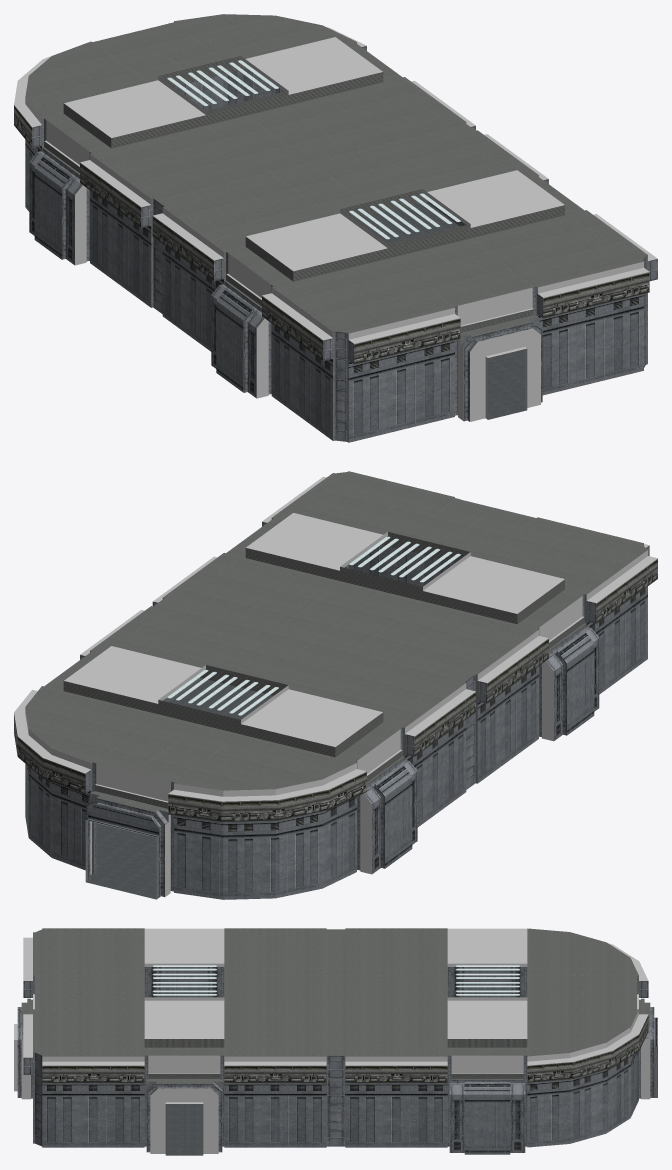
Rendered from poi_all_impl_bunker_warren_s01_r37_smallroom37_mesh_r37.fbx.
The picture shows the model from 3 angles, top to bottom: view 1: azimuth 30°, elevation 25°; view 2: azimuth 150°, elevation 25°; view 3: azimuth 270°, elevation 25°; orthographic projection. The views are drawn at different scales.
Visible parts, largest first — view 1: mesh_node; view 2: mesh_node; view 3: mesh_node.
Part boxes in pixels (left/top/right/bottom): mesh_node: left=14, top=14, right=657, bottom=442; mesh_node: left=14, top=471, right=657, bottom=899; mesh_node: left=14, top=928, right=657, bottom=1155.
Bounding box in the file's own units: 17.9 × 6 × 34.
